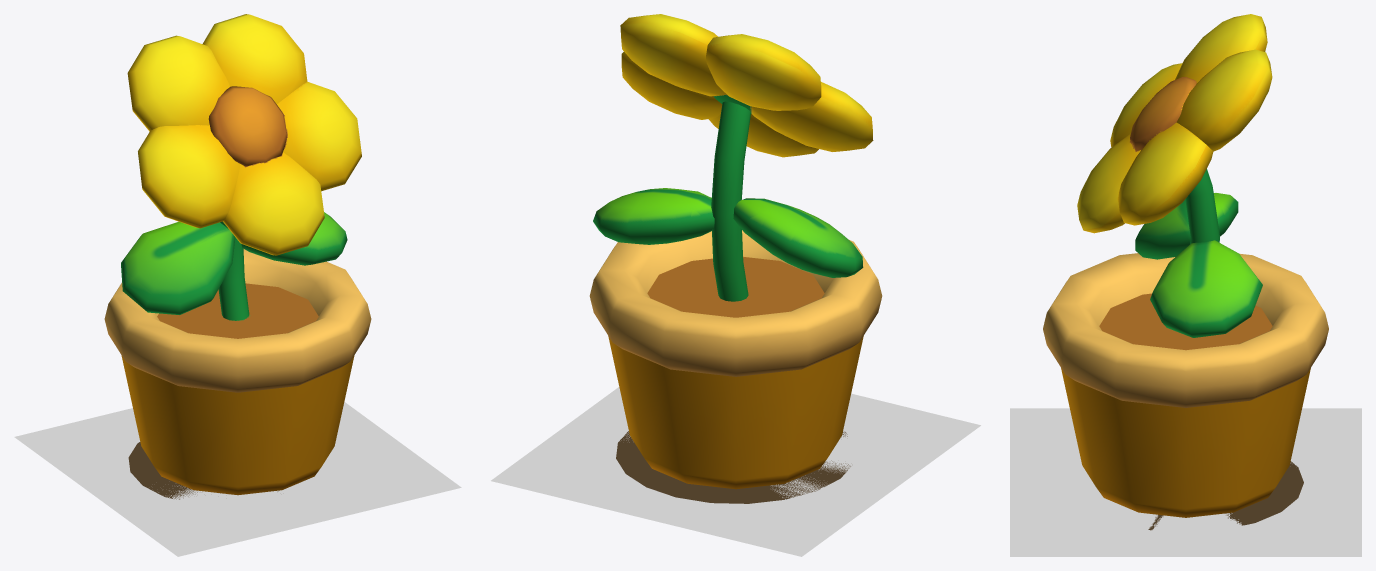
File: Decor_Sunflower.fbx
The picture shows the model from 3 angles, left to right: view 1: azimuth 30°, elevation 25°; view 2: azimuth 150°, elevation 25°; view 3: azimuth 270°, elevation 25°; orthographic projection. The views are drawn at different scales.
Visible parts, largest first — view 1: Sunflower.001, Sunflower_Grid; view 2: Sunflower.001, Sunflower_Grid; view 3: Sunflower.001, Sunflower_Grid.
Boxes of the visible parts, left/top/right/bottom form: Sunflower.001: left=104, top=14, right=371, bottom=499; Sunflower_Grid: left=14, top=402, right=461, bottom=556; Sunflower.001: left=589, top=14, right=882, bottom=503; Sunflower_Grid: left=491, top=387, right=980, bottom=556; Sunflower.001: left=1043, top=14, right=1328, bottom=530; Sunflower_Grid: left=1010, top=408, right=1361, bottom=556.
Size of the model in its own units: 1 by 1.39 by 1.
